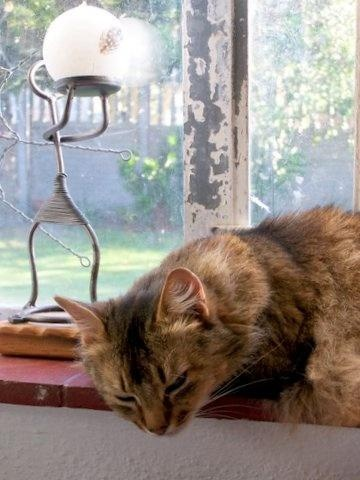cat: (54, 207, 360, 436)
